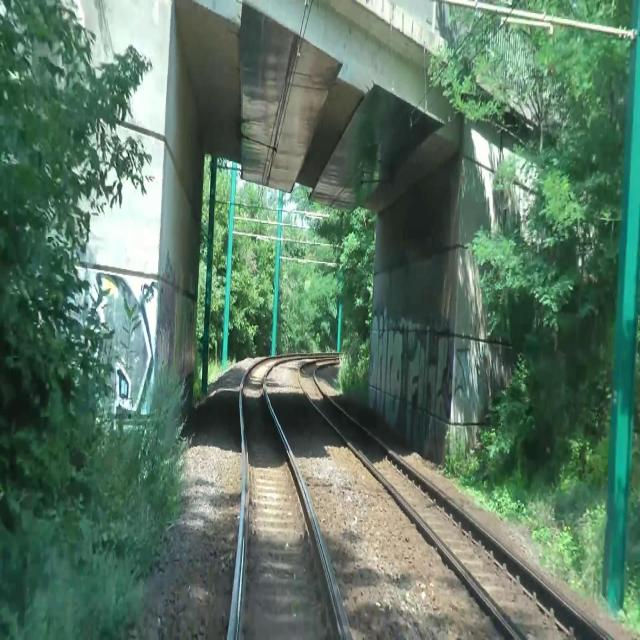rail-track: (300, 363, 602, 639), (233, 360, 347, 639)
